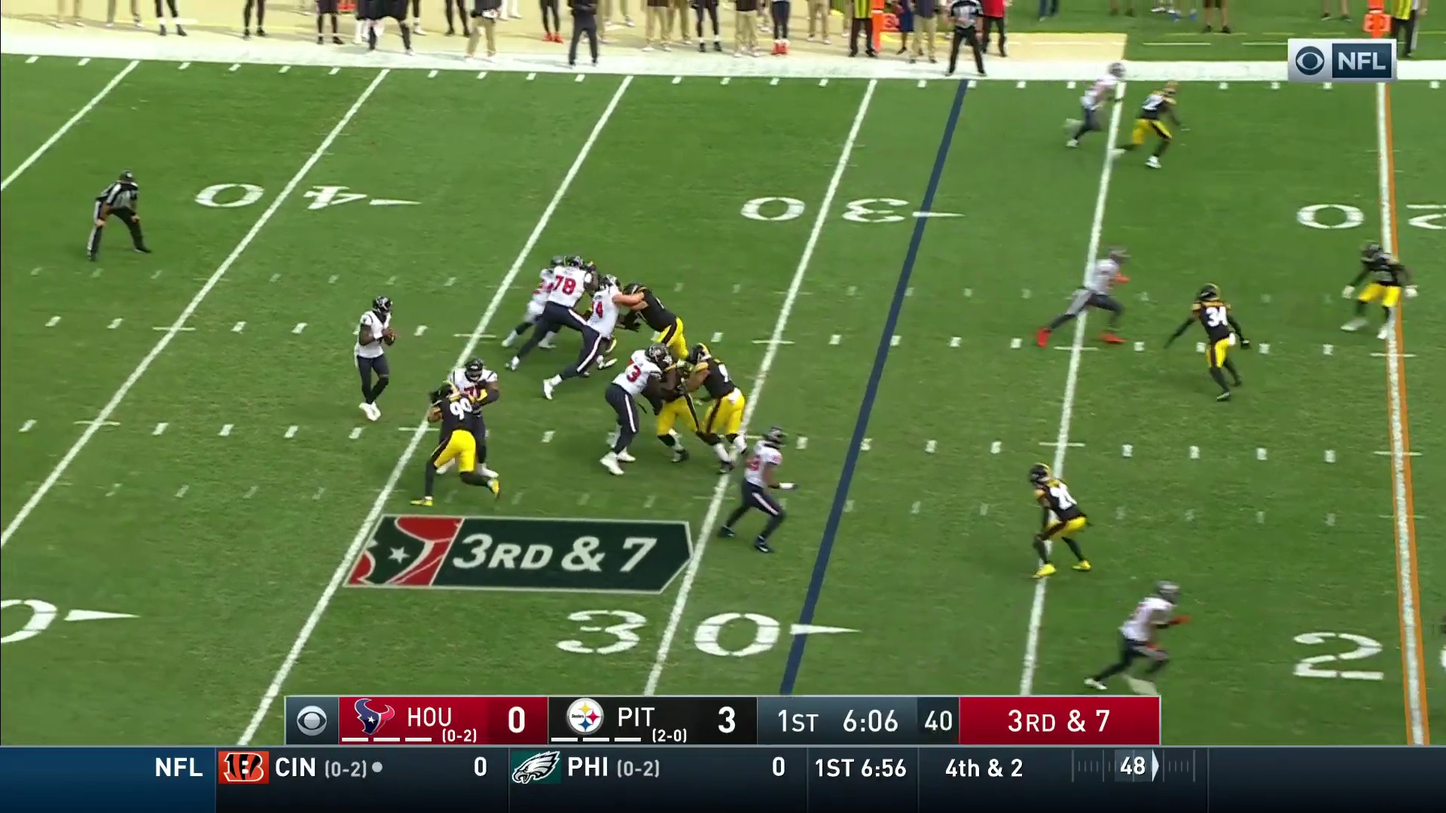Player: (687, 345, 745, 470), (1029, 463, 1090, 576), (447, 359, 499, 486), (1191, 283, 1245, 400), (1341, 242, 1404, 337), (742, 427, 788, 552), (644, 346, 692, 465), (355, 295, 394, 420), (542, 259, 589, 344), (1134, 81, 1180, 167), (585, 276, 620, 368)
